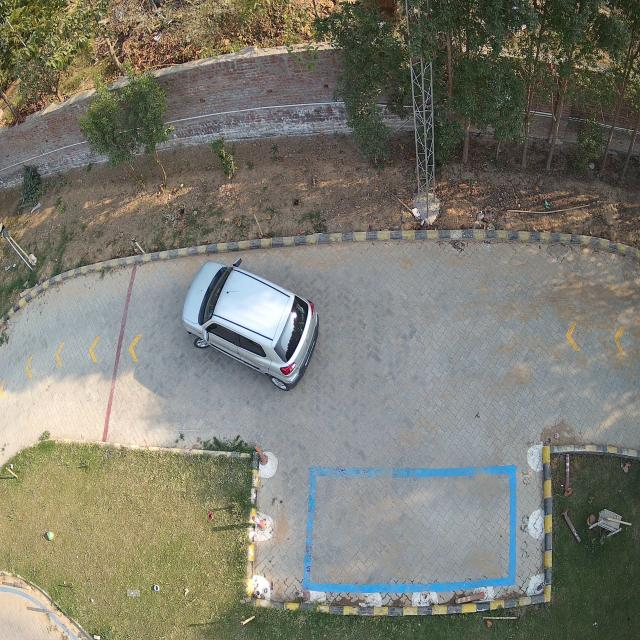car: (182, 259, 319, 392)
